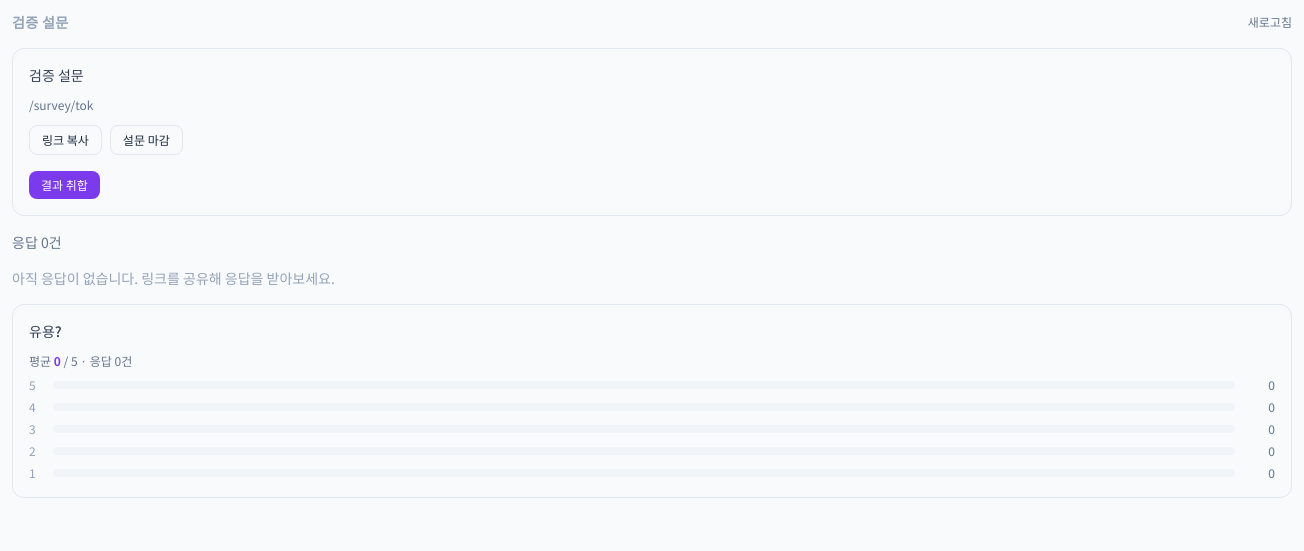
Test: SurveyPanel — 결과 취합 › surfaces a synthesis failure without wedging the button
This screenshot has width=1304, height=551.
Click the button "결과 취합" at (64, 185), box x1=29 y1=171 x2=100 y2=199
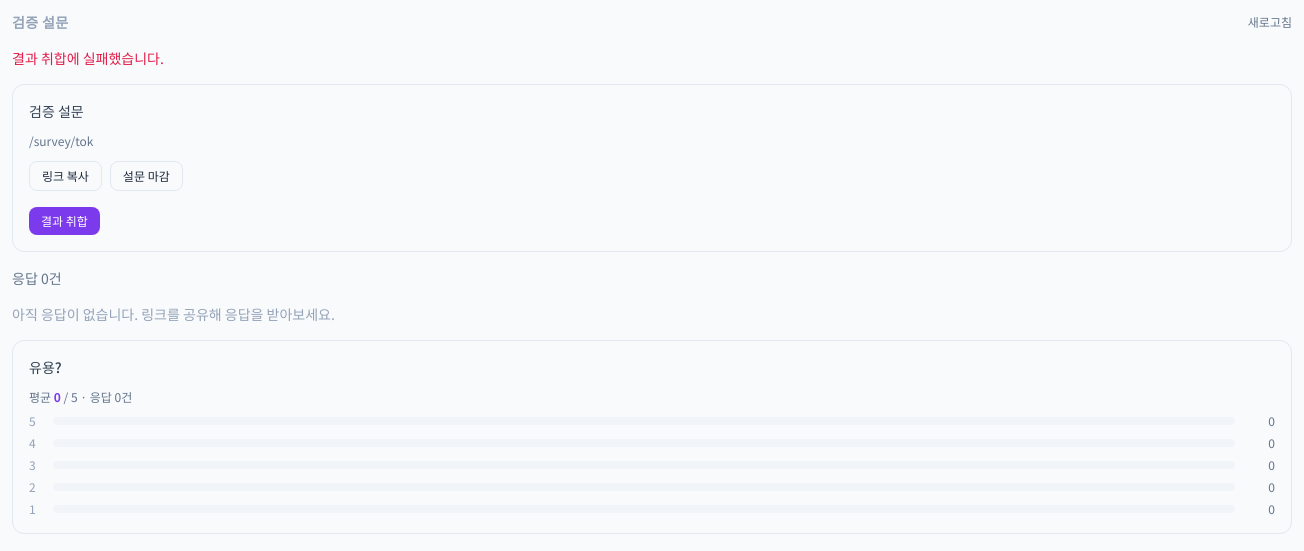
Expected: the button "결과 취합" is enabled, x1=29 y1=207 x2=100 y2=235
Expected: the text "결과 취합에 실패했습니다." is shown, x1=12 y1=48 x2=164 y2=68
